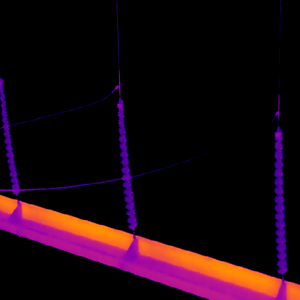insulator: (113, 96, 138, 231), (271, 124, 289, 274), (0, 77, 20, 194)
